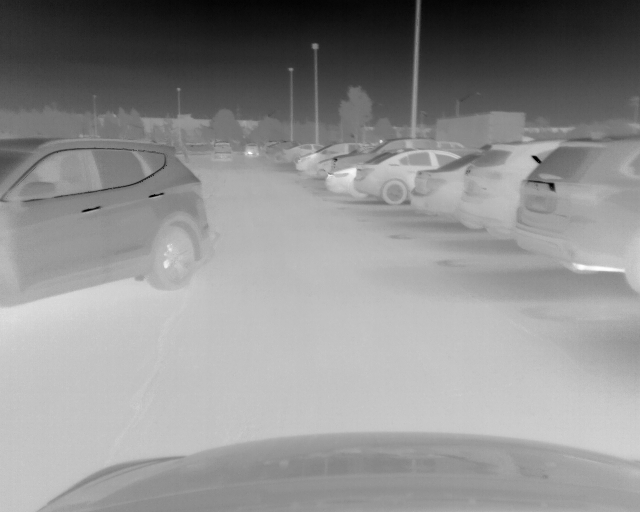car: (1, 138, 211, 305), (513, 136, 640, 291), (458, 140, 561, 241), (325, 137, 467, 201), (408, 151, 483, 231), (357, 150, 463, 203), (300, 142, 362, 180), (278, 142, 325, 166), (264, 141, 298, 163), (212, 142, 233, 163), (245, 142, 261, 159)
